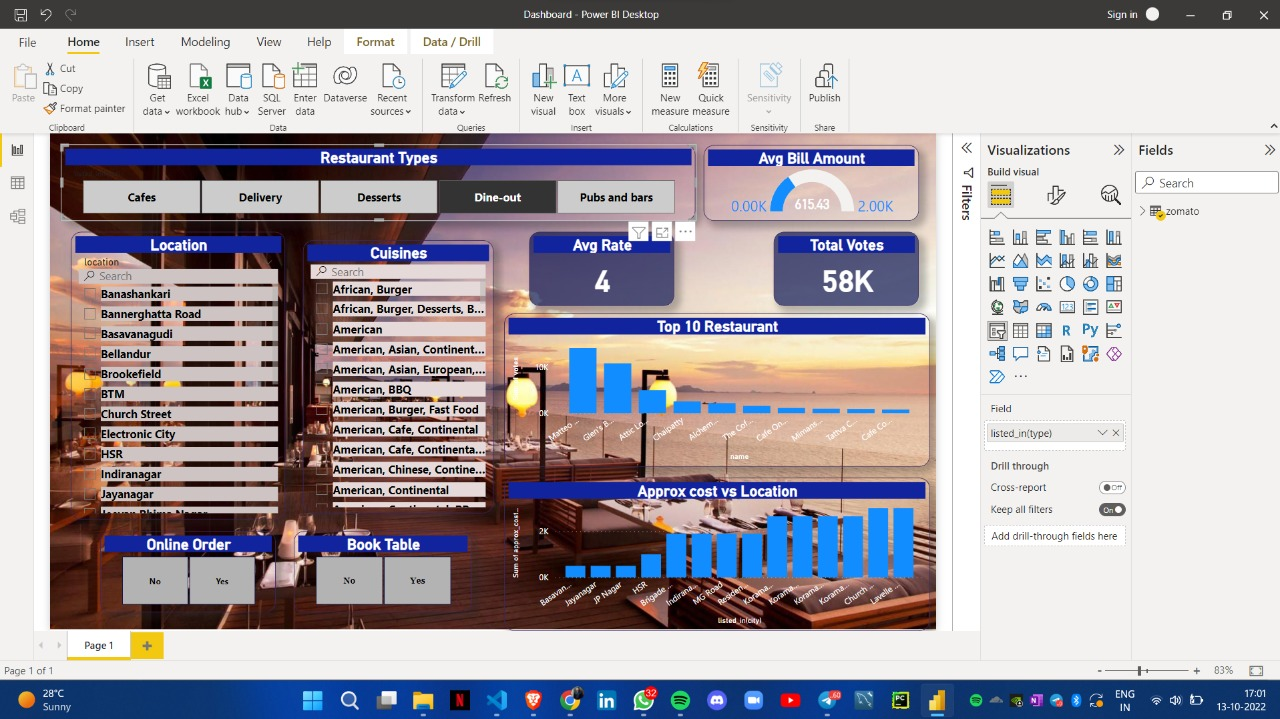

The dashboard page shown, as its layout file describes it:
{"tool":"powerbi","page":{"name":"Page 1","canvas":[1280,720],"ordinal":0},"visuals":[{"type":"gauge","title":"Avg Bill Amount","fields":{"Y":["Avg(zomato.approx_cost(for two people))"]},"box":[944.3,16.9,311.2,109.7],"z":0},{"type":"slicer","title":"Restaurant Types","fields":{"Values":["zomato.listed_in(type)"]},"box":[15.9,15.9,917.1,111.3],"z":1000},{"type":"card","title":"Total Votes","fields":{"Values":["Sum(zomato.approx_cost(for two people))"]},"box":[1045.6,142.3,209.8,107.3],"z":2000},{"type":"card","title":"Avg Rate","fields":{"Values":["Avg(zomato.rate)"]},"box":[692.3,142.3,209.8,107.3],"z":3000},{"type":"columnChart","title":"Top 10 Restaurant","fields":{"Category":["zomato.name"],"Y":["Sum(zomato.votes)"]},"box":[656.1,260.5,615.1,221.9],"z":4000},{"type":"slicer","title":"Online Order","fields":{"Values":["zomato.online_order"]},"box":[72,575.6,253.7,117.4],"z":5000},{"type":"slicer","title":"Book Table","fields":{"Values":["zomato.book_table"]},"box":[352.2,575.6,257.5,117.4],"z":6000},{"type":"slicer","title":"Location","fields":{"Values":["zomato.location"]},"box":[30.2,142.3,309.9,416.1],"z":7000},{"type":"slicer","title":"Cuisines","fields":{"Values":["zomato.cuisines"]},"box":[365.4,154.4,275,395.6],"z":8000},{"type":"columnChart","title":"Approx cost vs Location","fields":{"Category":["zomato.listed_in(city)"],"Y":["Sum(zomato.approx_cost(for two people))"]},"box":[656.1,498.1,615.1,221.9],"z":8001}]}

Visuals, with their boxes on the page's 1280x720 design canvas (x1, y1, x2, y2). These are canvas units, not pixel positions in the 1280x719 screenshot, which may show the page scaled, cropped or inside an application window:
"Avg Bill Amount" gauge: 944,17,1256,127
"Restaurant Types" slicer: 16,16,933,127
"Total Votes" card: 1046,142,1255,250
"Avg Rate" card: 692,142,902,250
"Top 10 Restaurant" columnChart: 656,260,1271,482
"Online Order" slicer: 72,576,326,693
"Book Table" slicer: 352,576,610,693
"Location" slicer: 30,142,340,558
"Cuisines" slicer: 365,154,640,550
"Approx cost vs Location" columnChart: 656,498,1271,720
